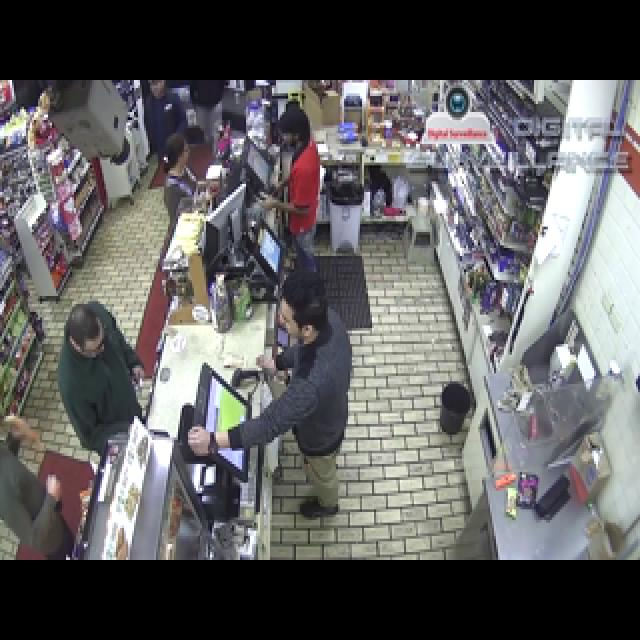vandalism: (2, 76, 640, 564)
